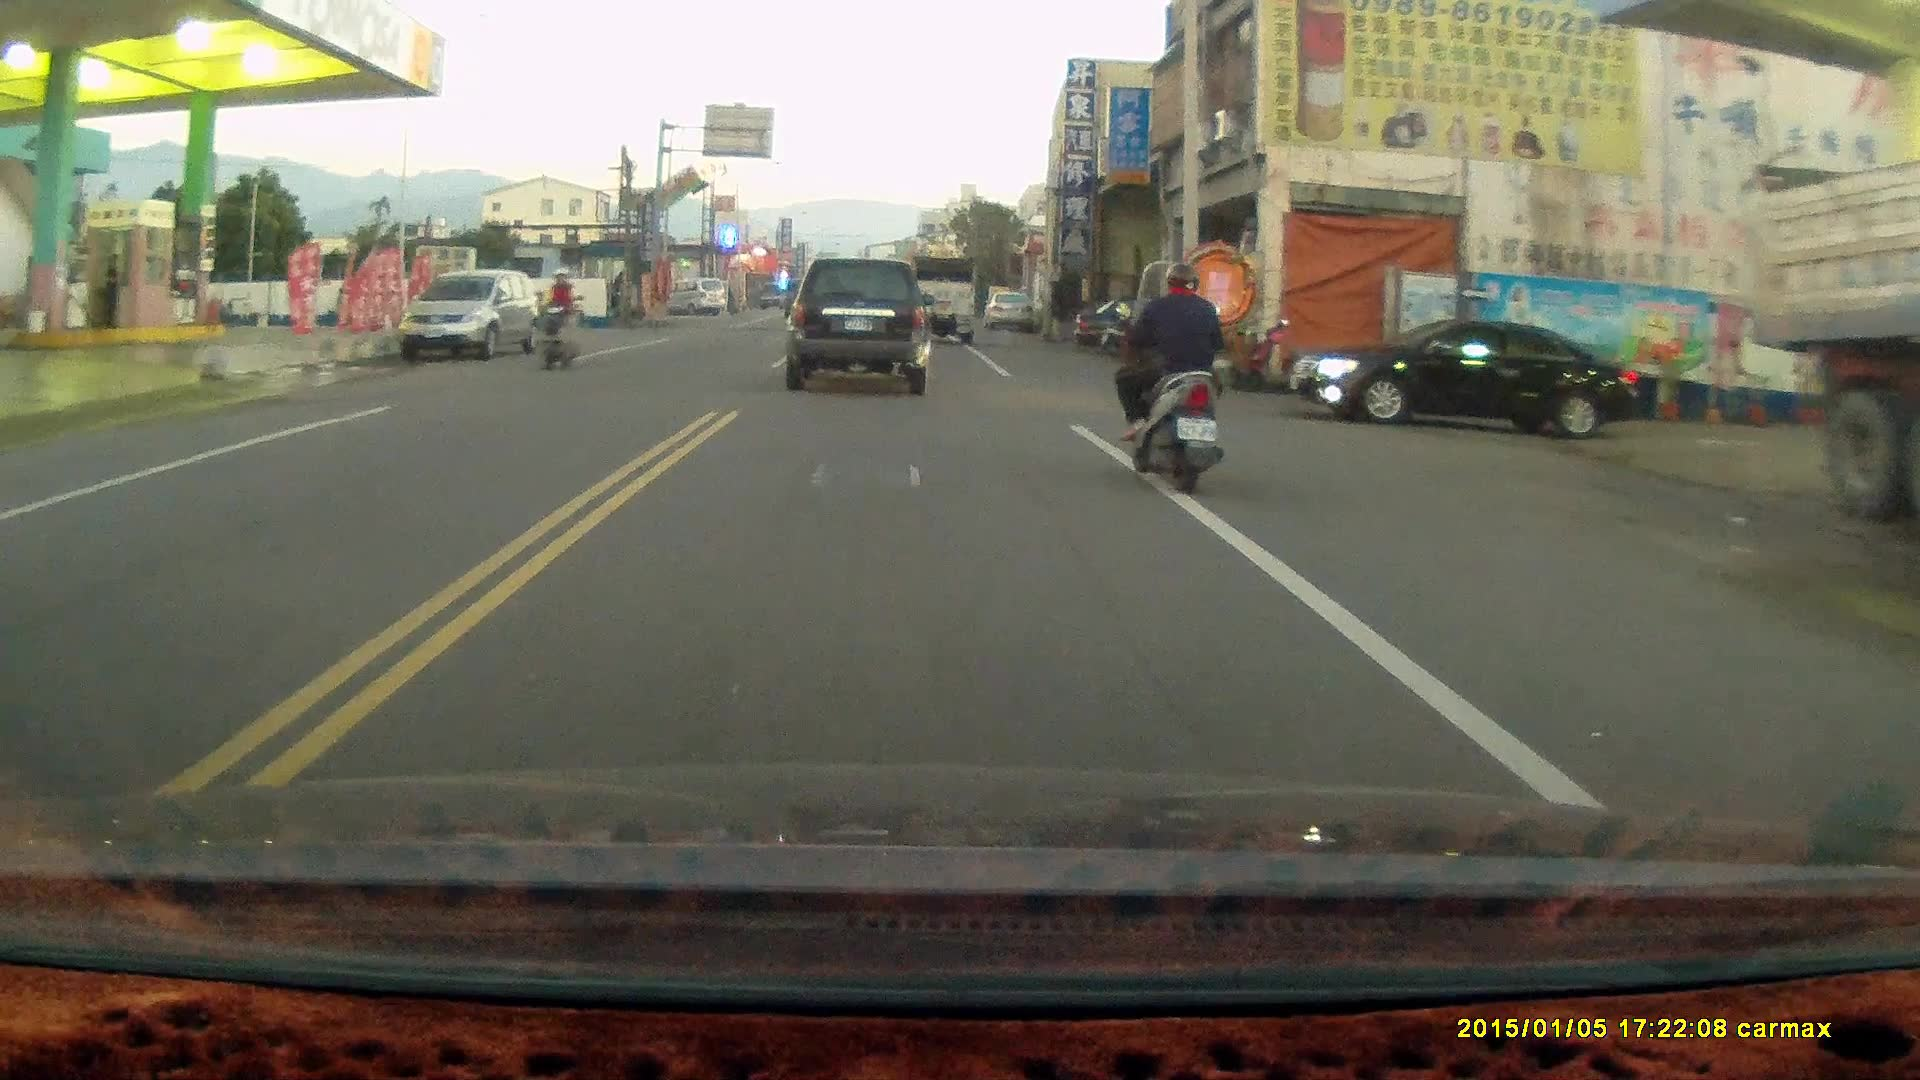rider: (1109, 261, 1221, 496), (533, 267, 577, 369)
vehicle: (1744, 127, 1920, 531), (1287, 323, 1653, 441), (790, 257, 938, 396), (397, 270, 539, 368), (894, 253, 979, 346)
